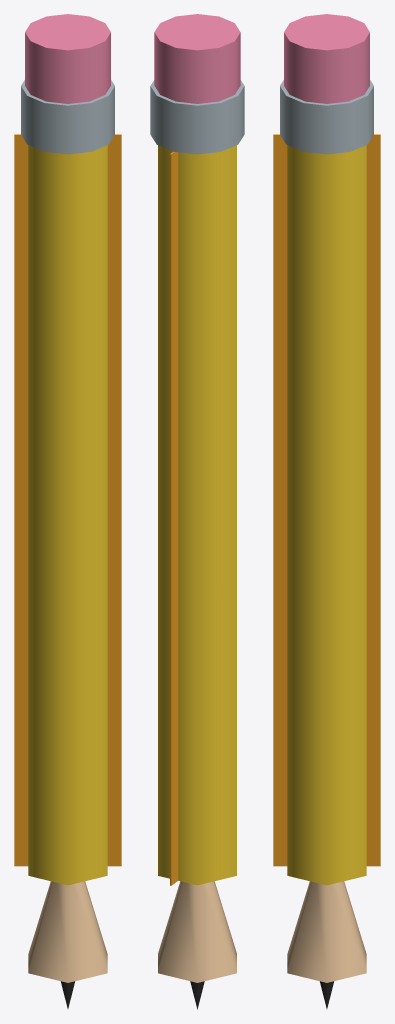
File: pencil.glb
The picture shows the model from 3 angles, left to right: view 1: azimuth 90°, elevation 25°; view 2: azimuth 150°, elevation 25°; view 3: azimuth 270°, elevation 25°; orthographic projection.
Visible parts, largest first — view 1: pencil; view 2: pencil; view 3: pencil.
Part boxes in pixels (x1=…): pencil: x1=14, y1=14, x2=121, y2=1008; pencil: x1=150, y1=14, x2=244, y2=1009; pencil: x1=273, y1=14, x2=380, y2=1008.
Size of the model in its own units: 0.35 by 4.01 by 0.4.
